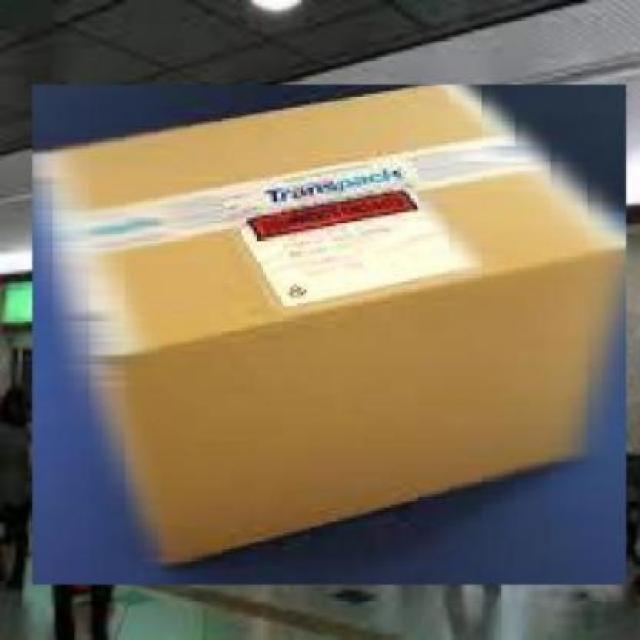box: (23, 76, 637, 595)
